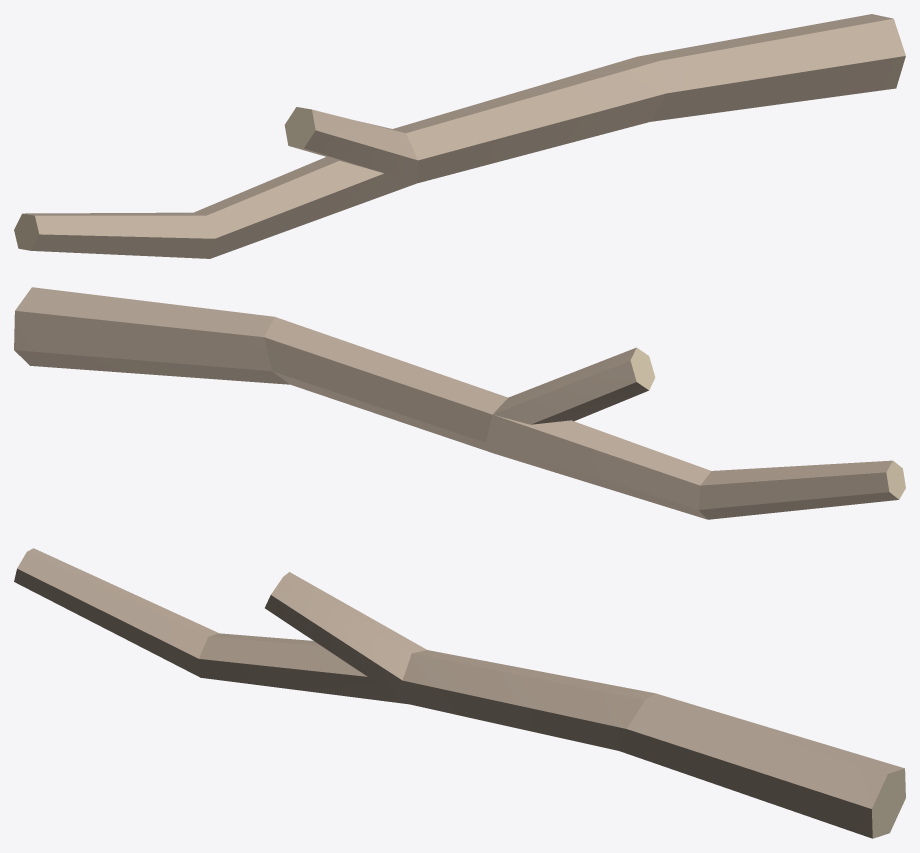
File: Hilly_Prop_Branch_3.glb
The picture shows the model from 3 angles, top to bottom: view 1: azimuth 30°, elevation 25°; view 2: azimuth 150°, elevation 25°; view 3: azimuth 330°, elevation 25°; orthographic projection. The views are drawn at different scales.
Visible parts, largest first — view 1: Hilly_Prop_Branch_3; view 2: Hilly_Prop_Branch_3; view 3: Hilly_Prop_Branch_3.
Part boxes in pixels (bbox=[...]): Hilly_Prop_Branch_3: bbox=[14, 14, 905, 258]; Hilly_Prop_Branch_3: bbox=[14, 287, 905, 519]; Hilly_Prop_Branch_3: bbox=[14, 548, 905, 838].
Size of the model in its own units: 1.92 by 0.2937 by 0.2.
